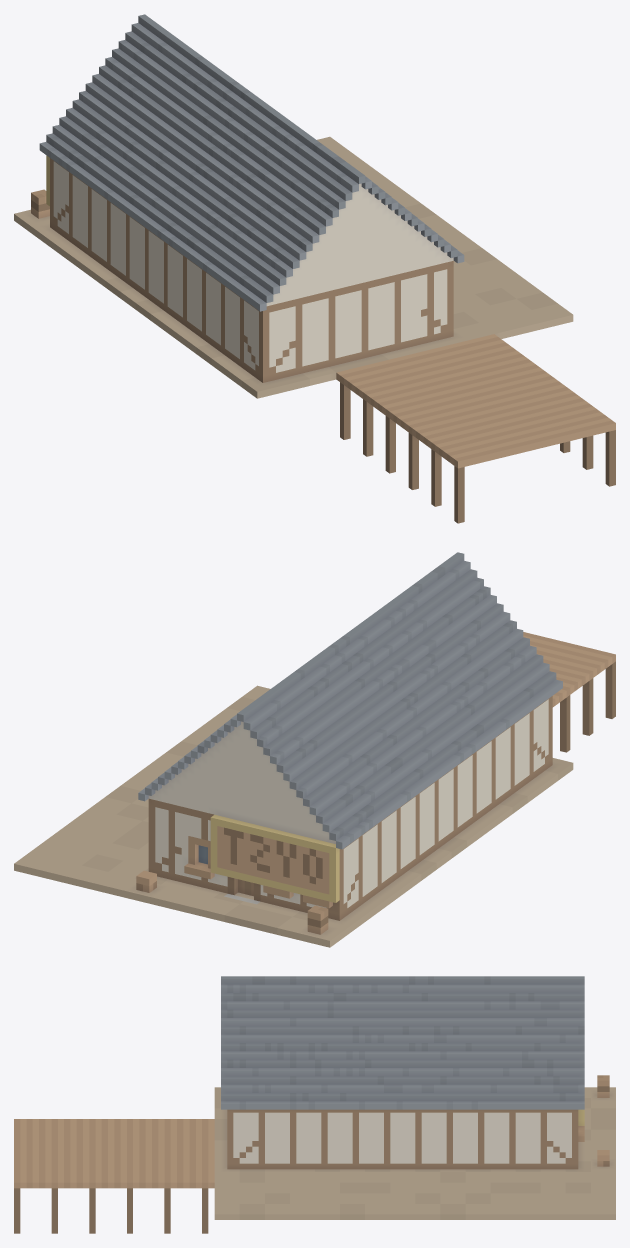
The model's file is oyster_beds.glb.
3 views of the same model, one above another, from view 1: azimuth 30°, elevation 25°; view 2: azimuth 150°, elevation 25°; view 3: azimuth 270°, elevation 25° (orthographic). The views are drawn at different scales.
Visible parts, largest first — view 1: oyster_beds; view 2: oyster_beds; view 3: oyster_beds.
Part boxes in pixels (x1,y1,x2,y2): oyster_beds: (14, 14, 615, 523); oyster_beds: (14, 552, 615, 947); oyster_beds: (14, 976, 615, 1233).
Bounding box in the file's own units: 6 × 4.5 × 12.
